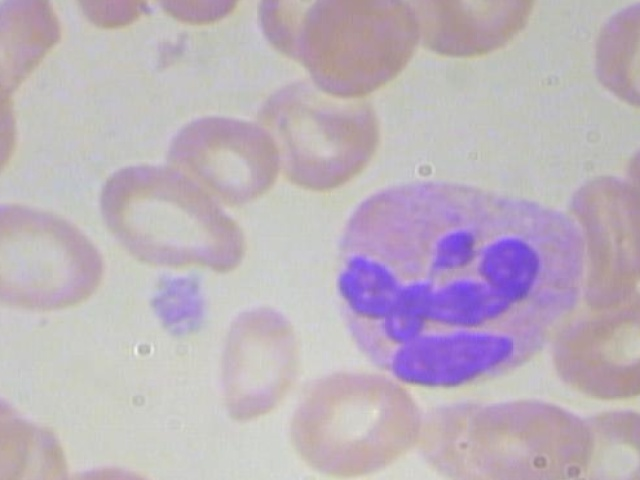Platelets: (136, 272, 218, 348)
RBC: (90, 157, 257, 276), (93, 155, 259, 274), (226, 72, 392, 191), (284, 358, 423, 480), (283, 0, 422, 101), (0, 200, 108, 319), (456, 395, 594, 480), (209, 299, 303, 420), (545, 286, 640, 399), (167, 113, 277, 207), (548, 398, 640, 480), (576, 0, 640, 117), (0, 0, 61, 111), (611, 134, 640, 250)
WBC: (322, 164, 604, 397)
